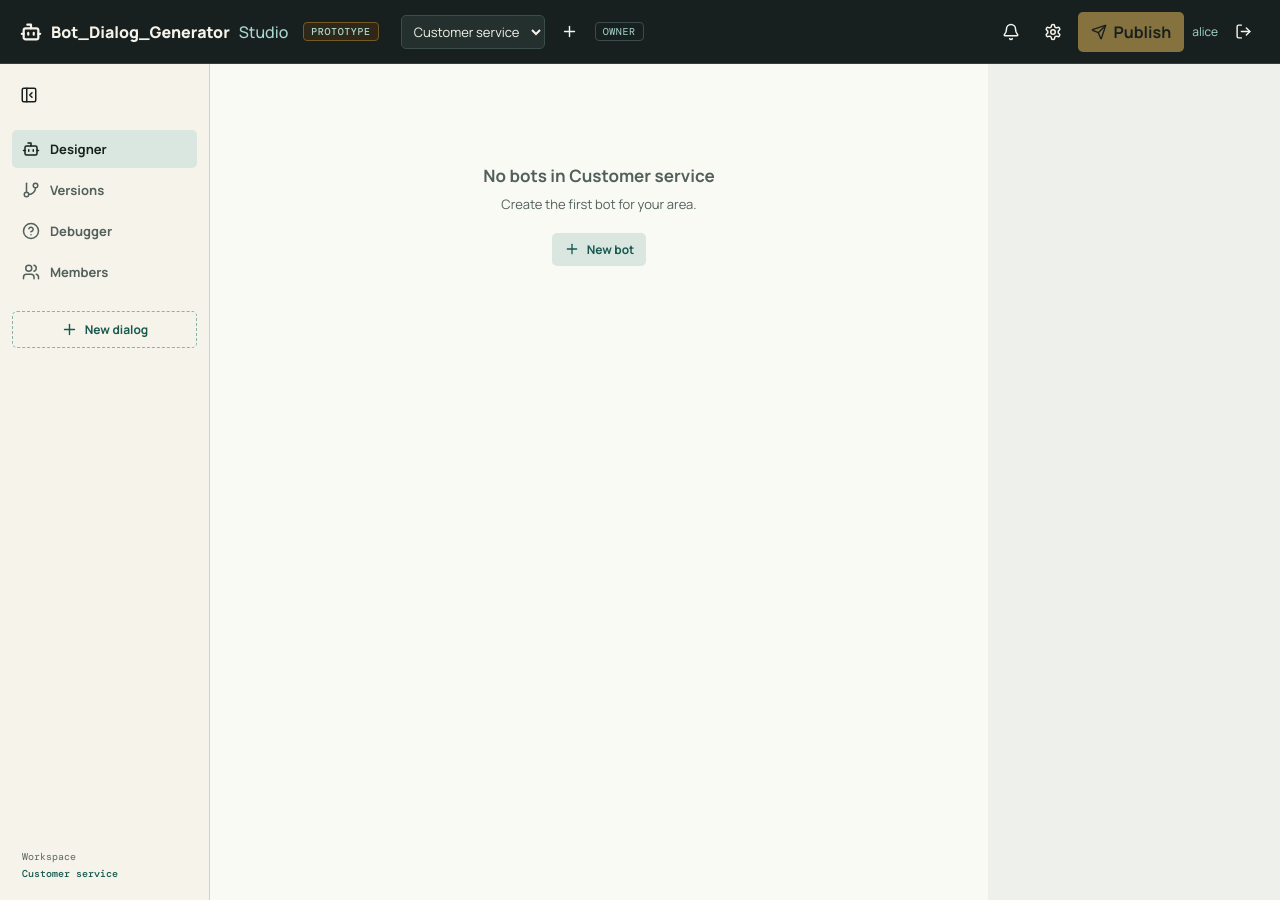
Test: Members and areas › keeps the last owner from being removed or demoted
Click the button "Members": (104,272) [12, 253, 197, 291]
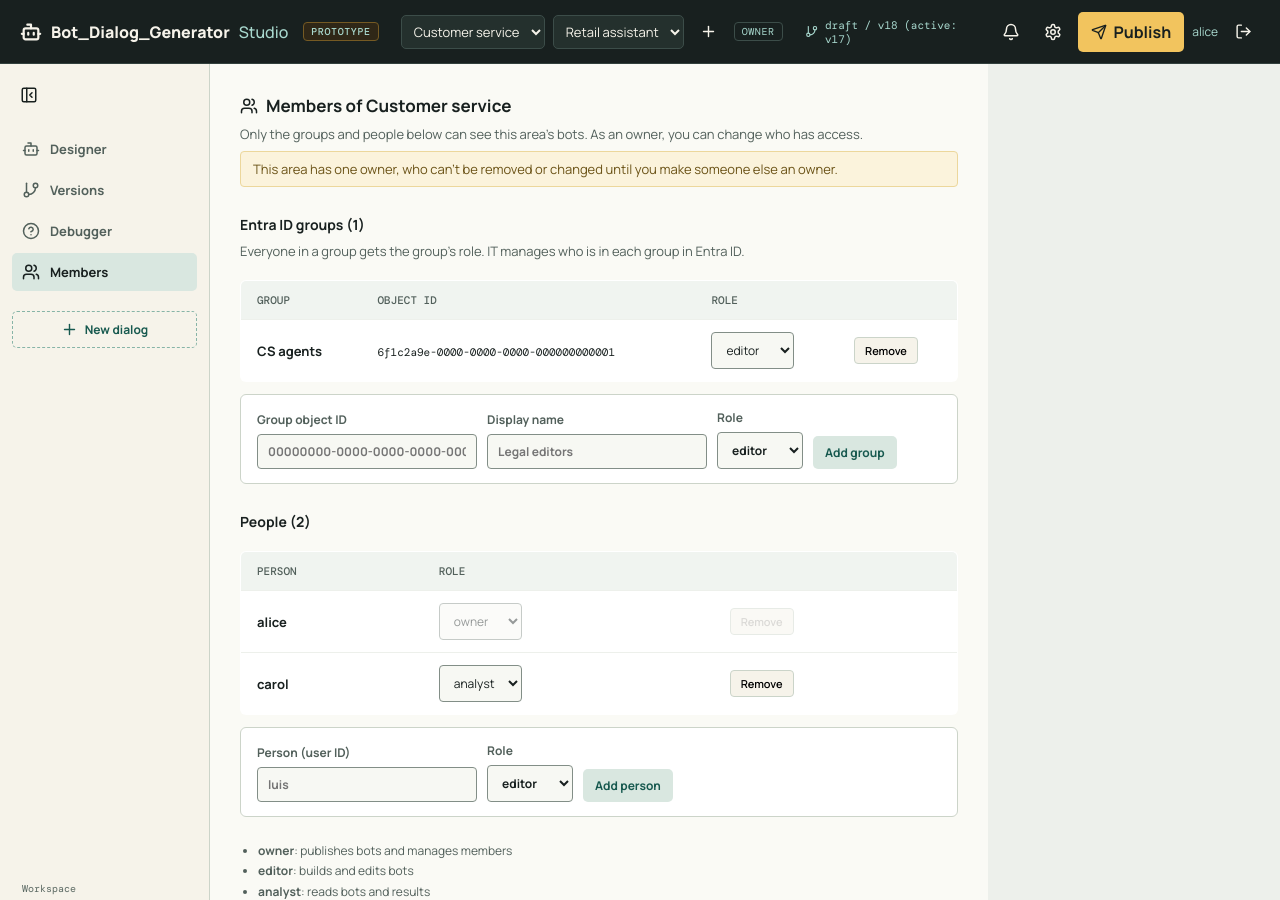
Result: the text "CS agents" is shown at [257, 342, 322, 360]
Result: the text "can't be removed or changed until you make someone else an owner" is shown at [253, 160, 838, 178]
Result: the dropdown named "Role for alice" is disabled at [439, 603, 522, 640]
